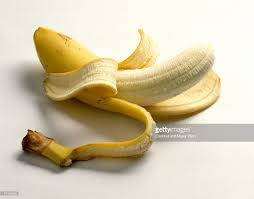banana: (18, 18, 226, 116), (1, 132, 144, 173)
